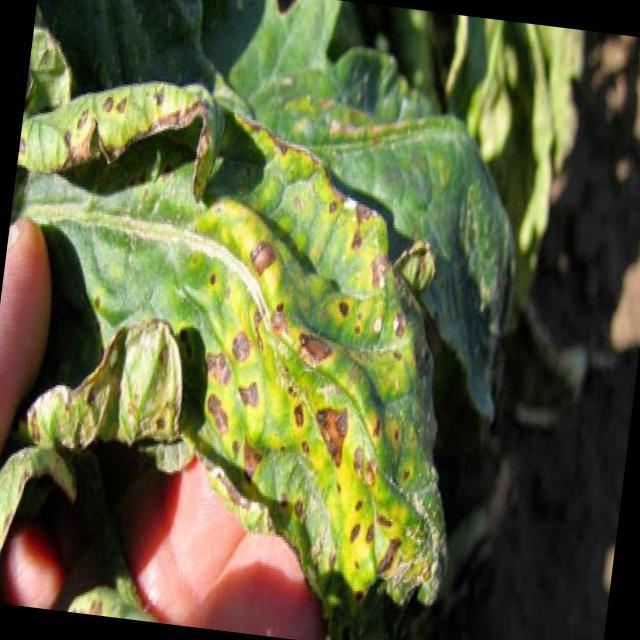Tomato leaf bacterial spot: (68, 160, 533, 613)
